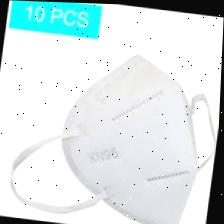mask: (47, 45, 222, 224)
